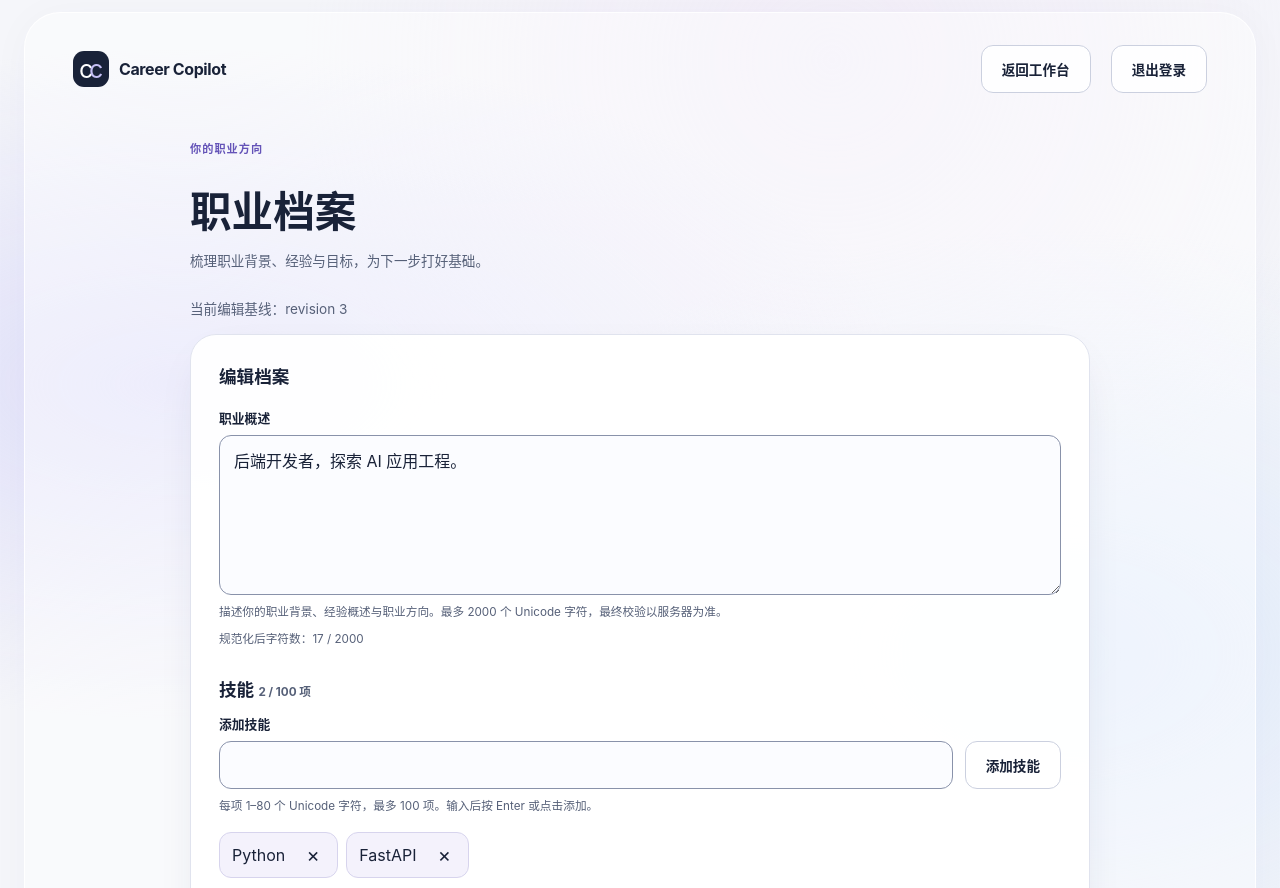
keyboard adds and removes skills and target roles without submitting the profile
Expected: the text box labelled "职业概述" holds "后端开发者，探索 AI 应用工程。", x1=219 y1=435 x2=1061 y2=595
In the field labelled "添加技能": (586, 765) x1=219 y1=741 x2=953 y2=789, type "TypeScript"
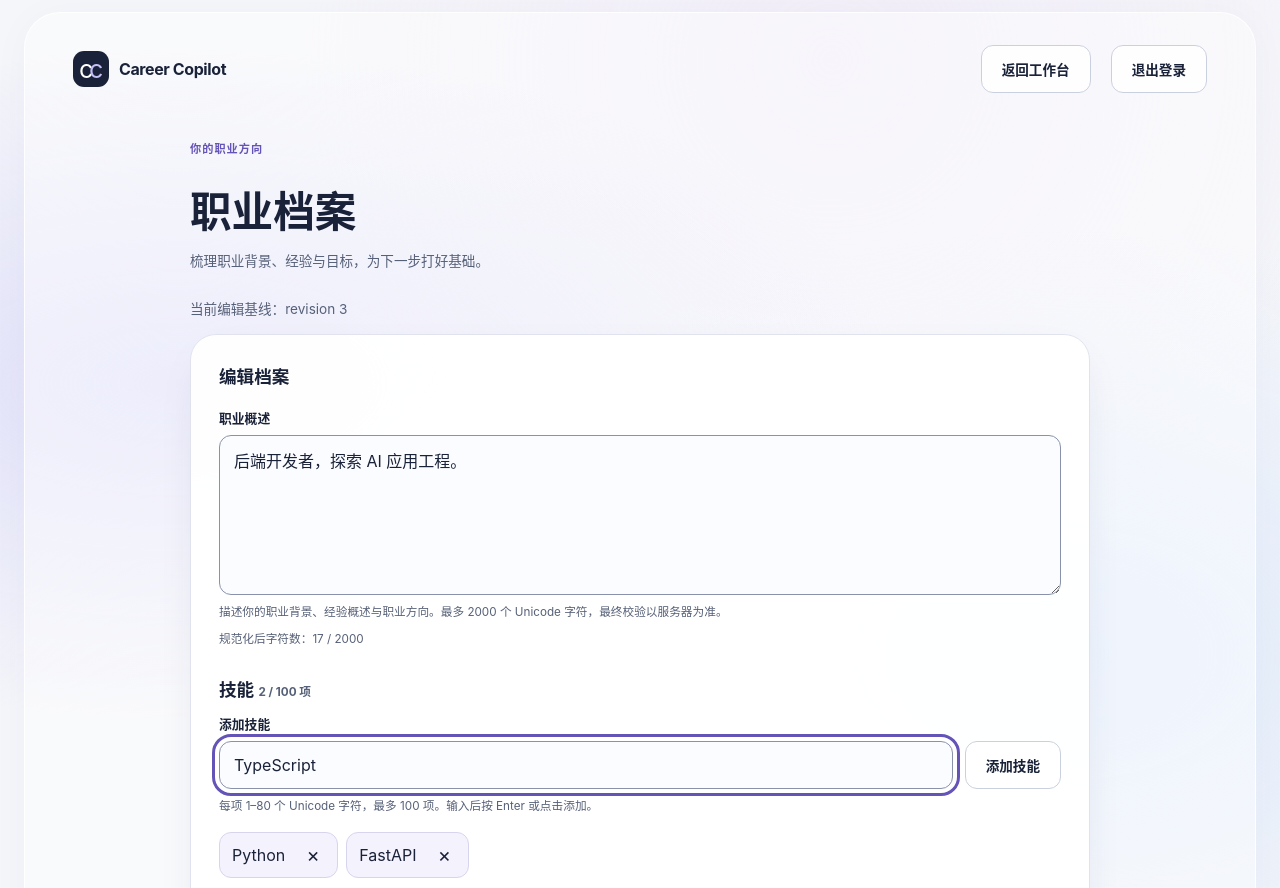
Press Enter
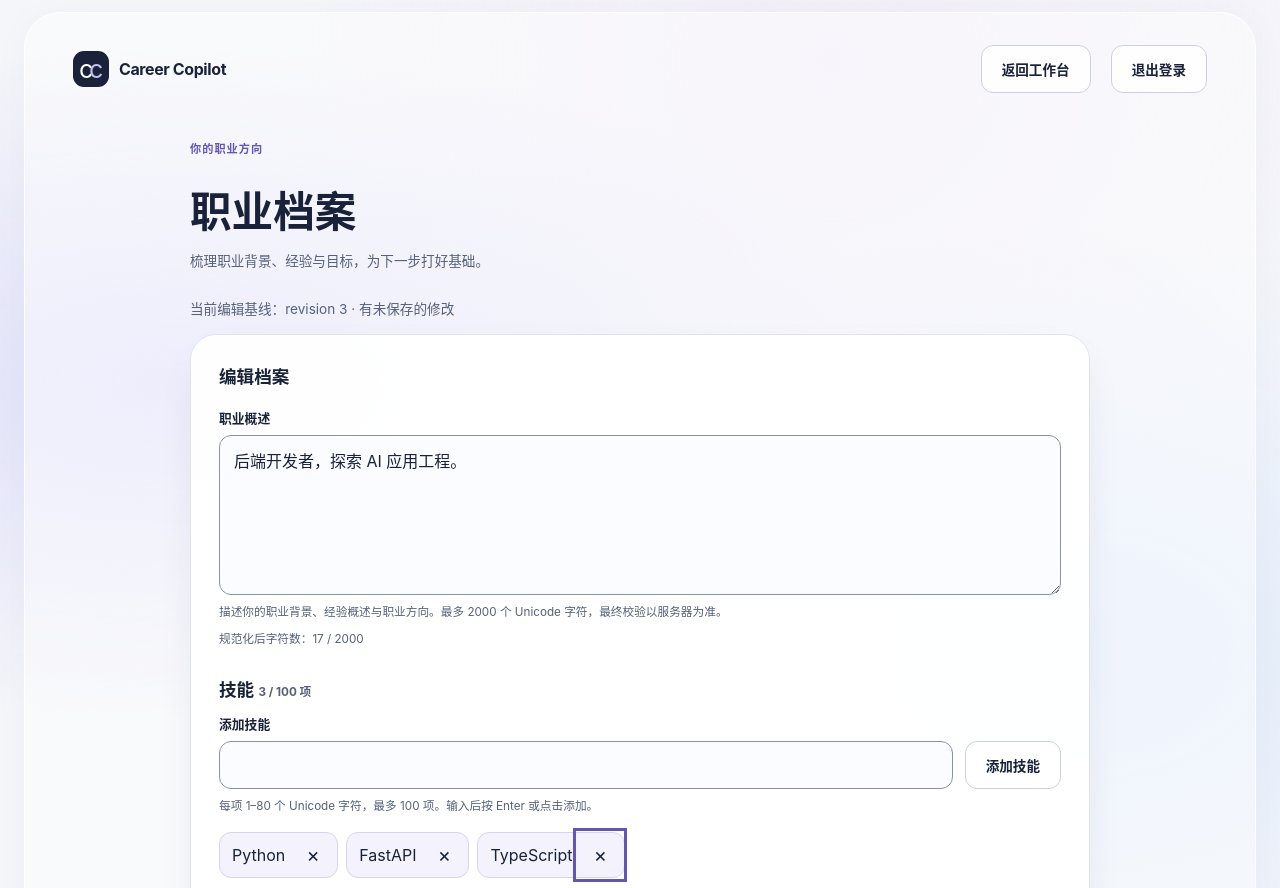
Press Enter
(page scrolled)
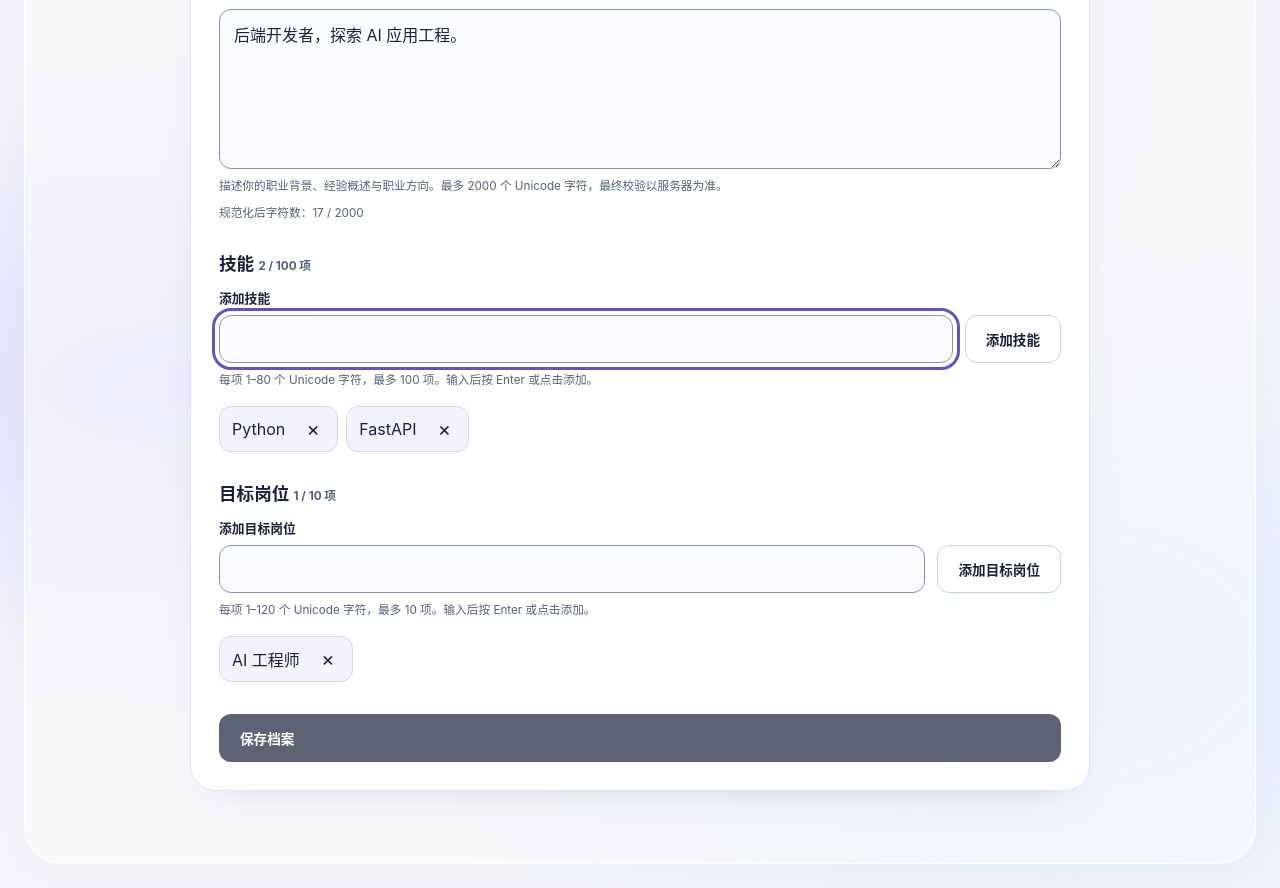
In the 2nd field: (572, 569) x1=219 y1=545 x2=925 y2=593, type "全栈工程师"
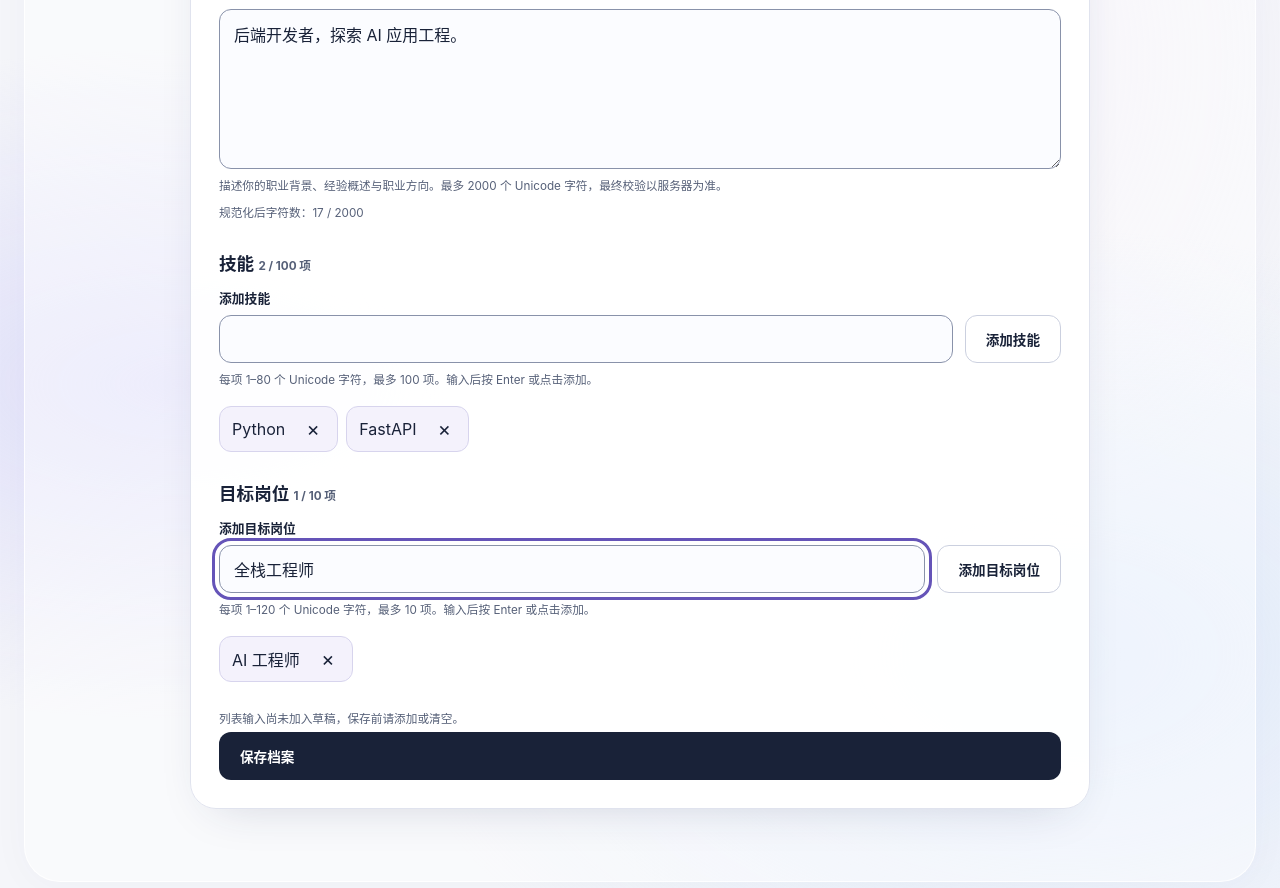
Press Enter
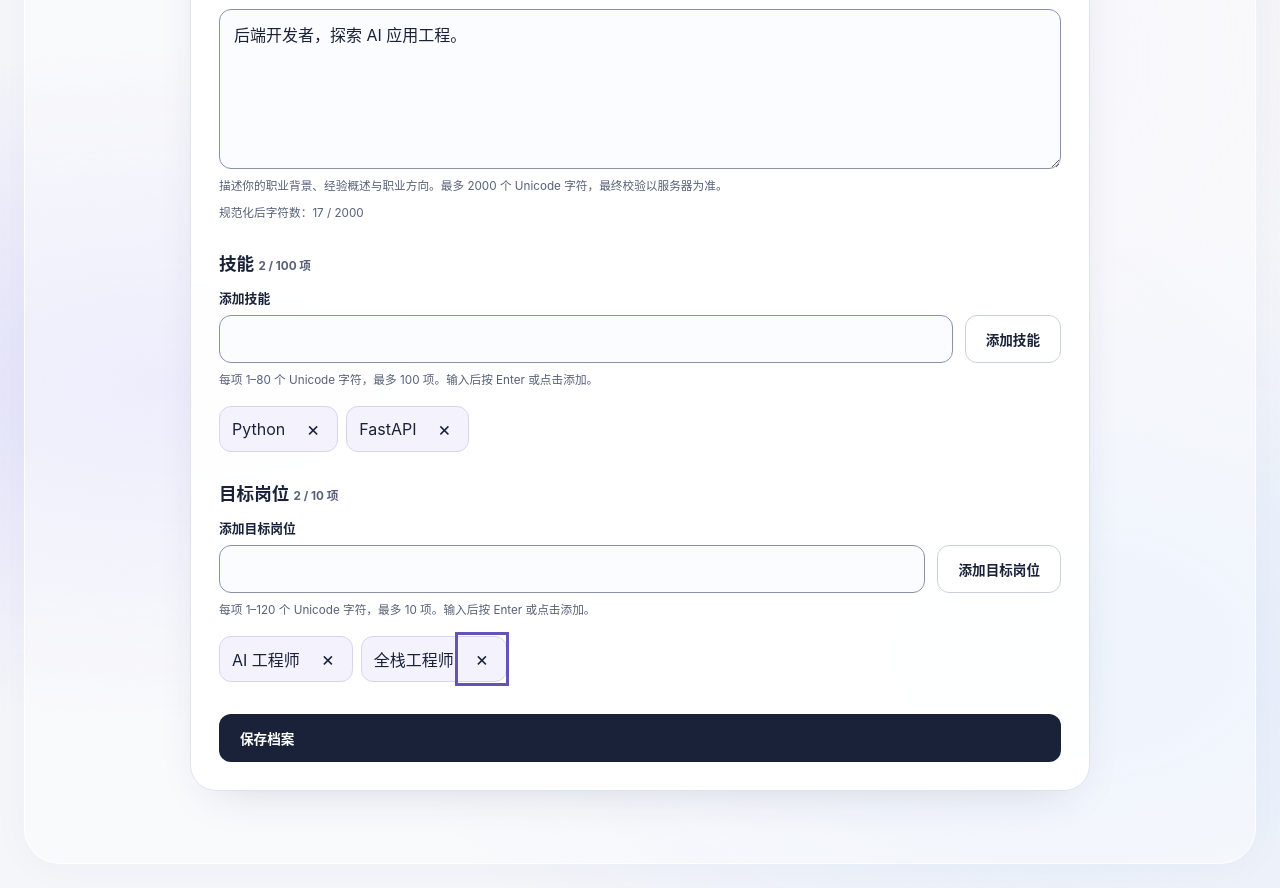
Press Enter
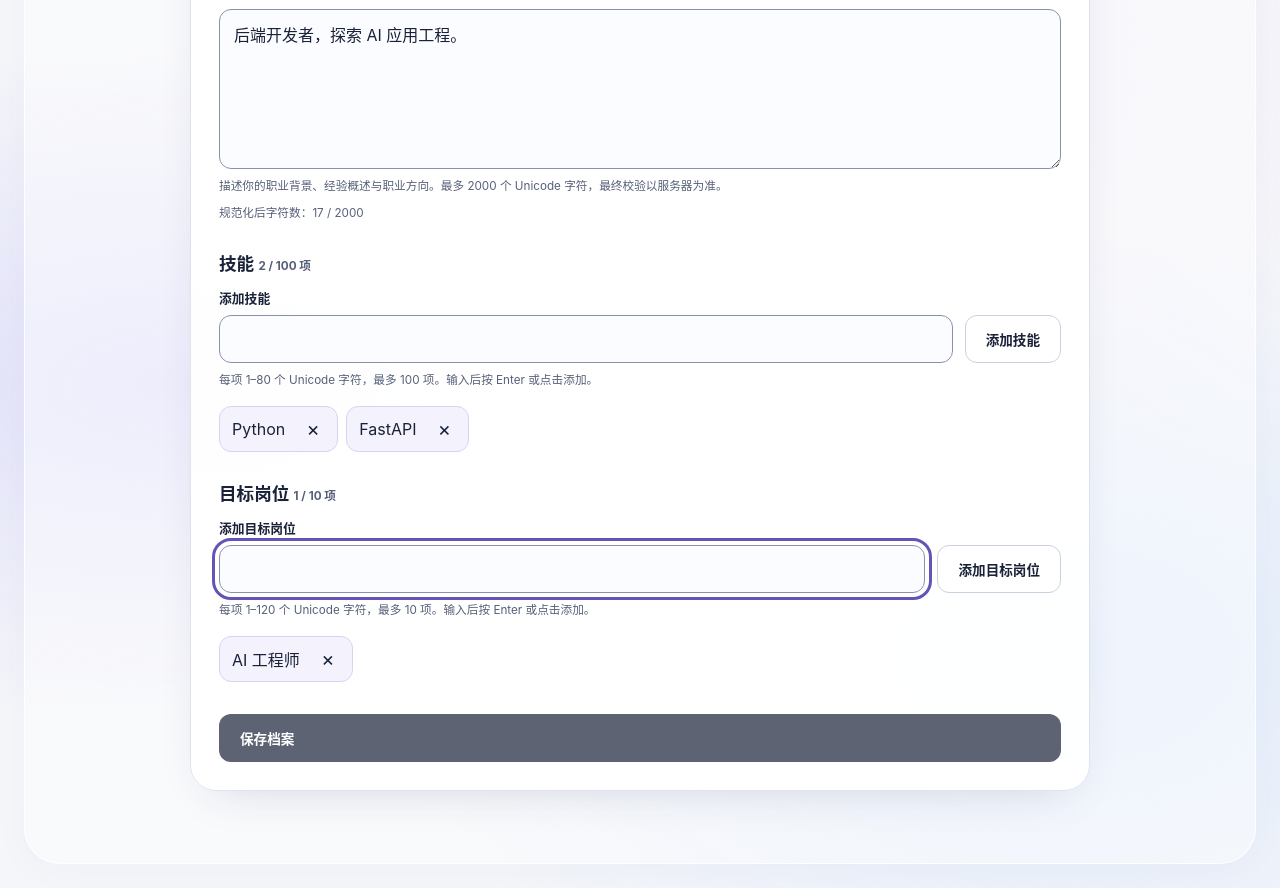
Result: the button "保存档案" is disabled at x1=219 y1=714 x2=1061 y2=762
